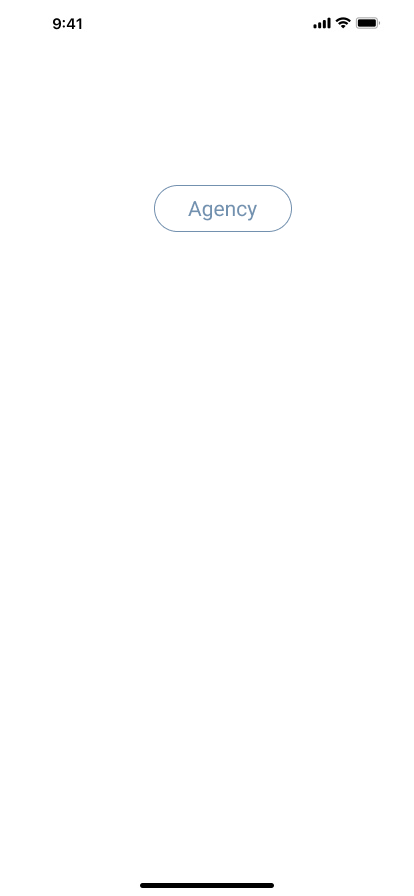Buttons: (154, 185, 300, 232)
Home Indicator: (0, 862, 414, 896)
Status Bar: (0, 0, 414, 44)
